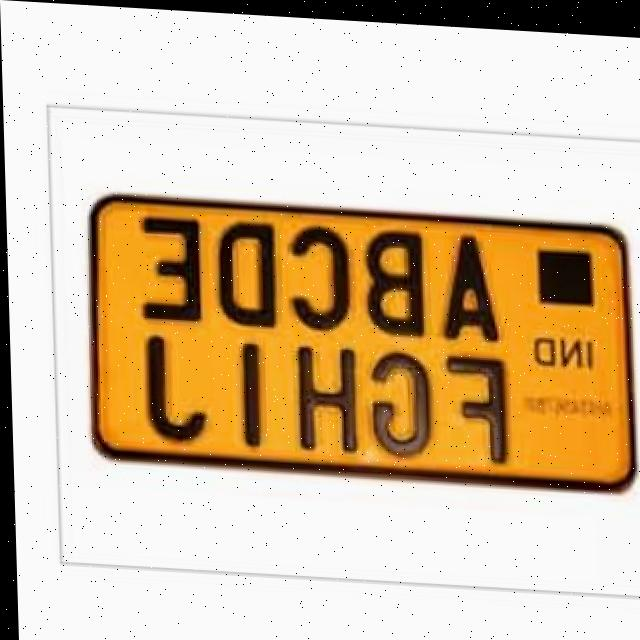plate: (68, 173, 640, 504)
